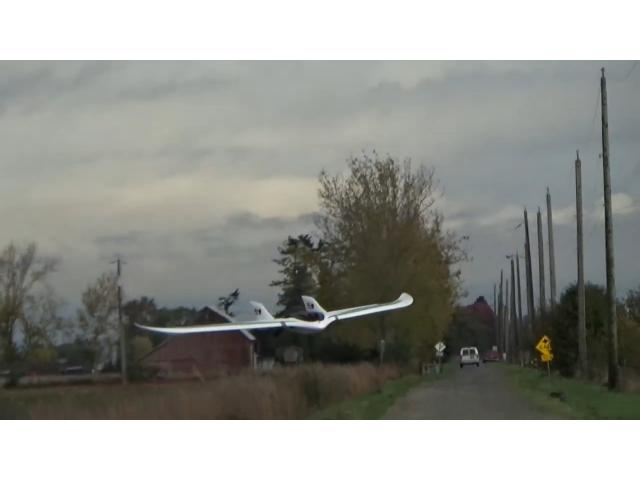Anti-Drone: (132, 289, 416, 337)
